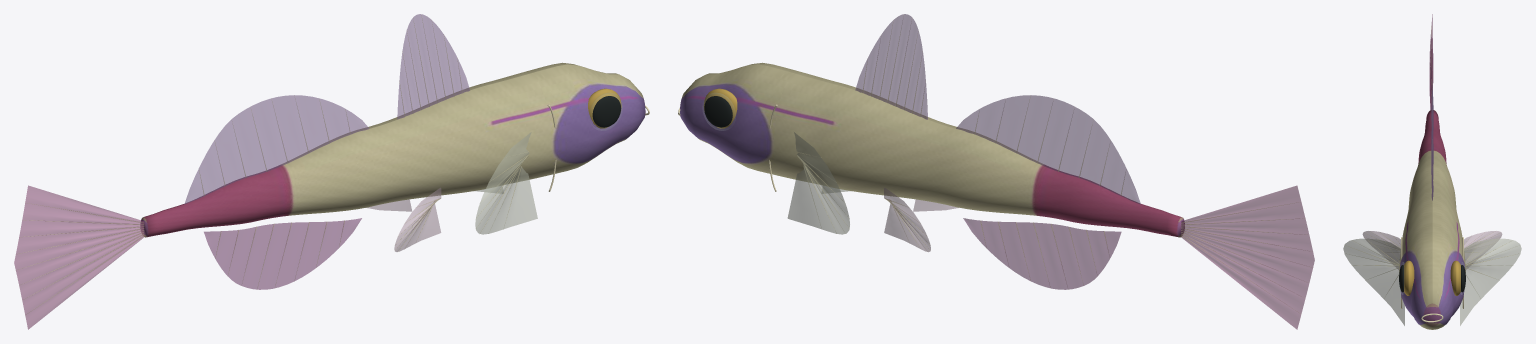
File: purplefire-mobile.glb
The picture shows the model from 3 angles, left to right: view 1: azimuth 30°, elevation 25°; view 2: azimuth 150°, elevation 25°; view 3: azimuth 270°, elevation 25°; orthographic projection. The views are drawn at different scales.
Parts seen in each view (by area): view 1: skin, dorsal, tail, anal, pectoral-left, dorsal-ray, pelvic-left, eye-pupil--1; view 2: skin, dorsal, tail, anal, pectoral-left, dorsal-ray, pelvic-left, eye-pupil--1; view 3: skin, pectoral-left, pelvic-left, eye-iris--1, dorsal-ray, dorsal, tail, eye-pupil--1, operculum.
Part boxes in pixels (bbox=[...]): skin: bbox=[140, 62, 645, 237]; dorsal: bbox=[184, 14, 469, 204]; tail: bbox=[14, 185, 143, 329]; anal: bbox=[204, 218, 361, 289]; pectoral-left: bbox=[474, 132, 537, 234]; dorsal-ray: bbox=[18, 16, 528, 314]; pelvic-left: bbox=[366, 188, 441, 251]; eye-pupil--1: bbox=[592, 96, 621, 127]; skin: bbox=[680, 62, 1184, 237]; dorsal: bbox=[855, 14, 1140, 204]; tail: bbox=[1181, 185, 1314, 329]; anal: bbox=[963, 218, 1121, 289]; pectoral-left: bbox=[787, 132, 850, 234]; dorsal-ray: bbox=[797, 18, 1311, 313]; pelvic-left: bbox=[884, 188, 958, 251]; eye-pupil--1: bbox=[704, 96, 732, 127]; skin: bbox=[1399, 110, 1465, 329]; pectoral-left: bbox=[1343, 238, 1521, 325]; pelvic-left: bbox=[1362, 231, 1502, 269]; eye-iris--1: bbox=[1404, 260, 1460, 295]; dorsal-ray: bbox=[1346, 26, 1515, 294]; dorsal: bbox=[1431, 81, 1433, 200]; tail: bbox=[1429, 14, 1433, 109]; eye-pupil--1: bbox=[1399, 265, 1465, 292]; operculum: bbox=[1401, 237, 1463, 322].
Bounding box in the file's own units: 0.6032 × 0.2184 × 0.1805.
11 materials, 1 textured.
